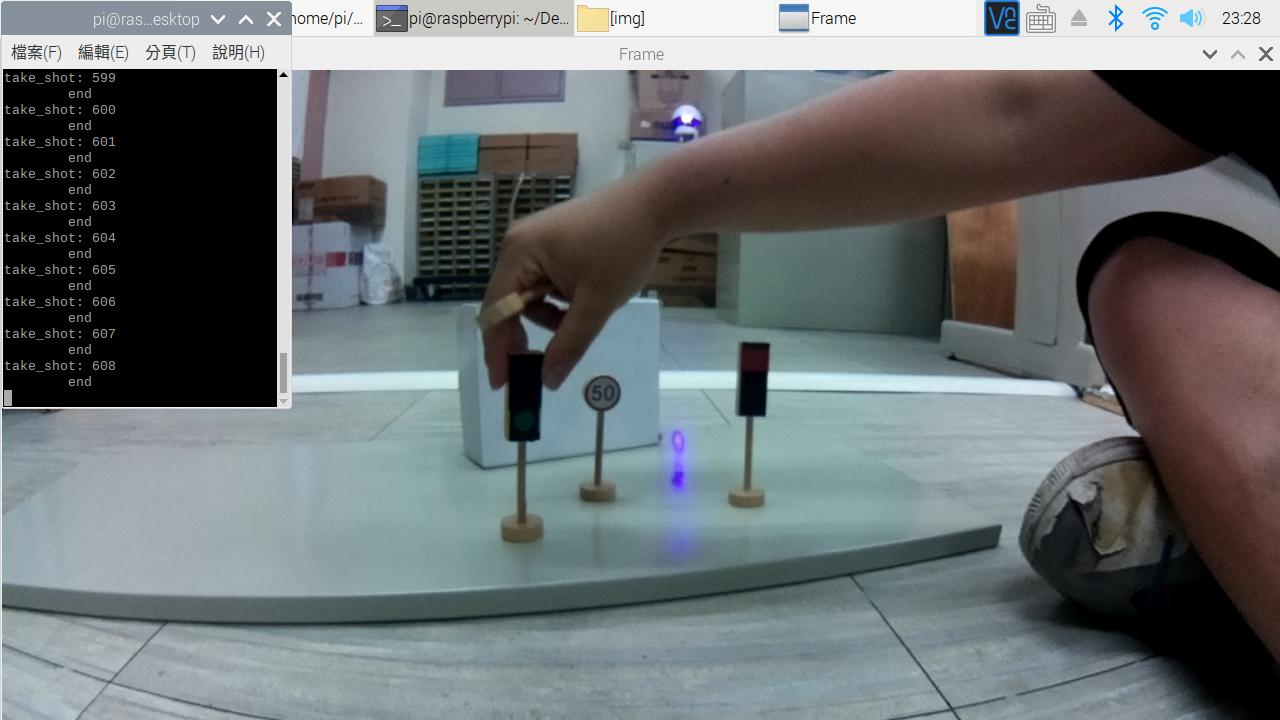Green: (496, 342, 555, 455)
Red: (725, 339, 778, 434)
Speed50: (585, 364, 633, 418)
